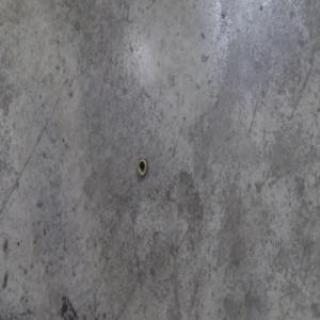Nuttrack_idkeyframe: (136, 154, 148, 177)
